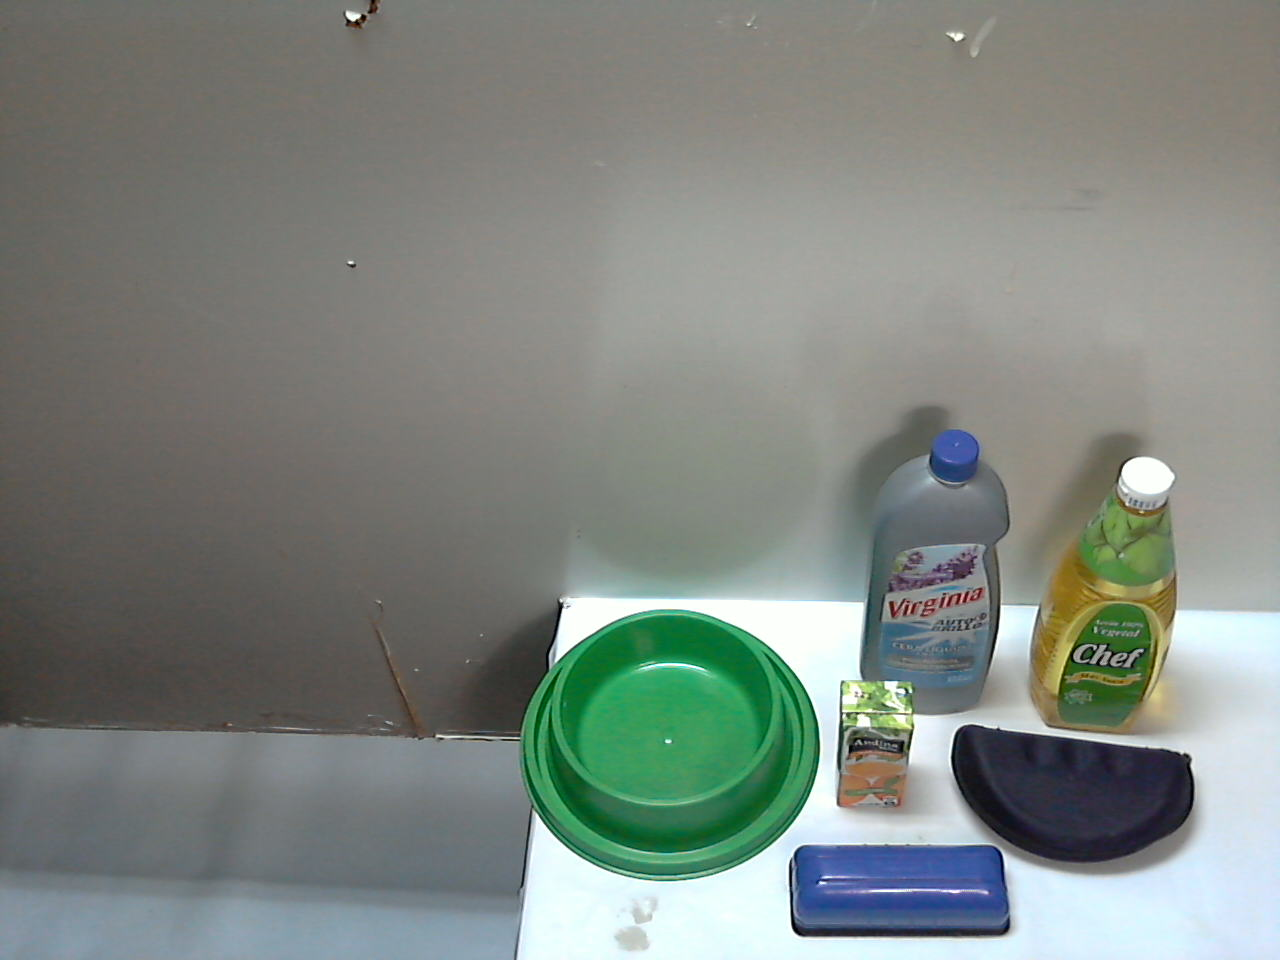aerosol: (489, 516, 617, 767)
borrador: (463, 804, 689, 935)
crema: (591, 657, 696, 807)
harina: (721, 564, 898, 797)
pelota: (719, 816, 824, 929)
platoperro: (856, 704, 1177, 960)
